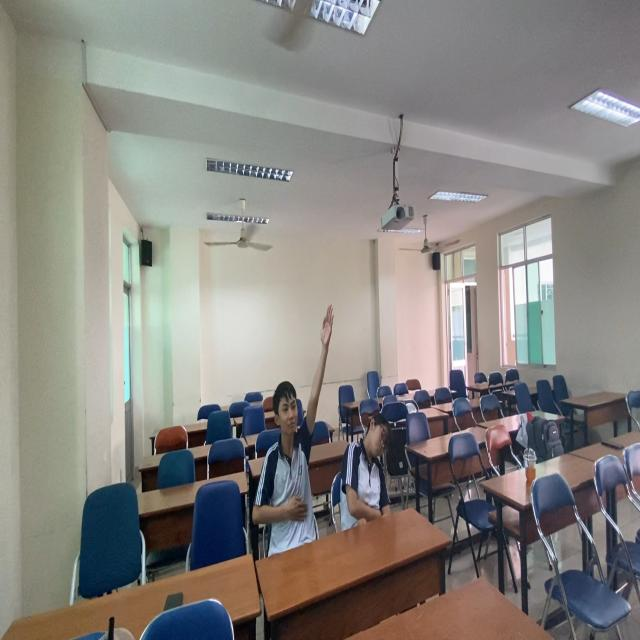raise_hand: (238, 307, 337, 572)
